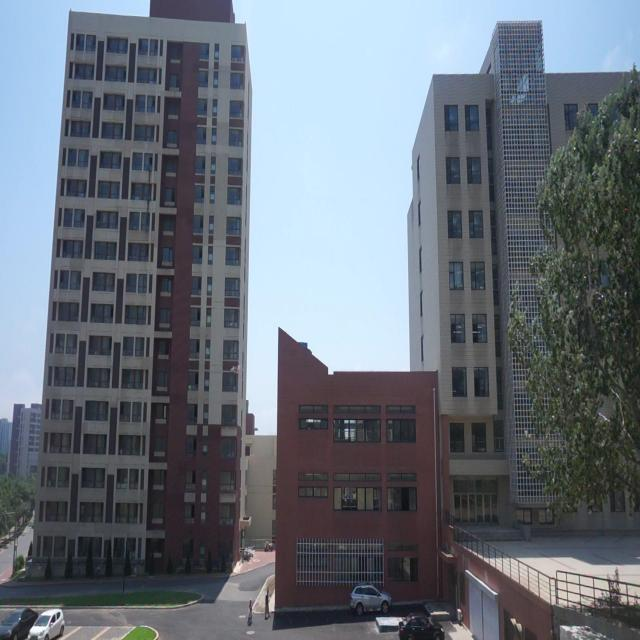UAV: (230, 366, 240, 374)
